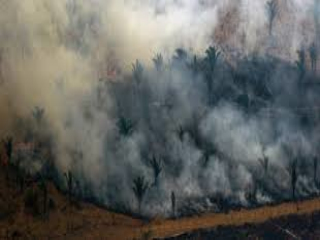smoke: (8, 6, 306, 210)
